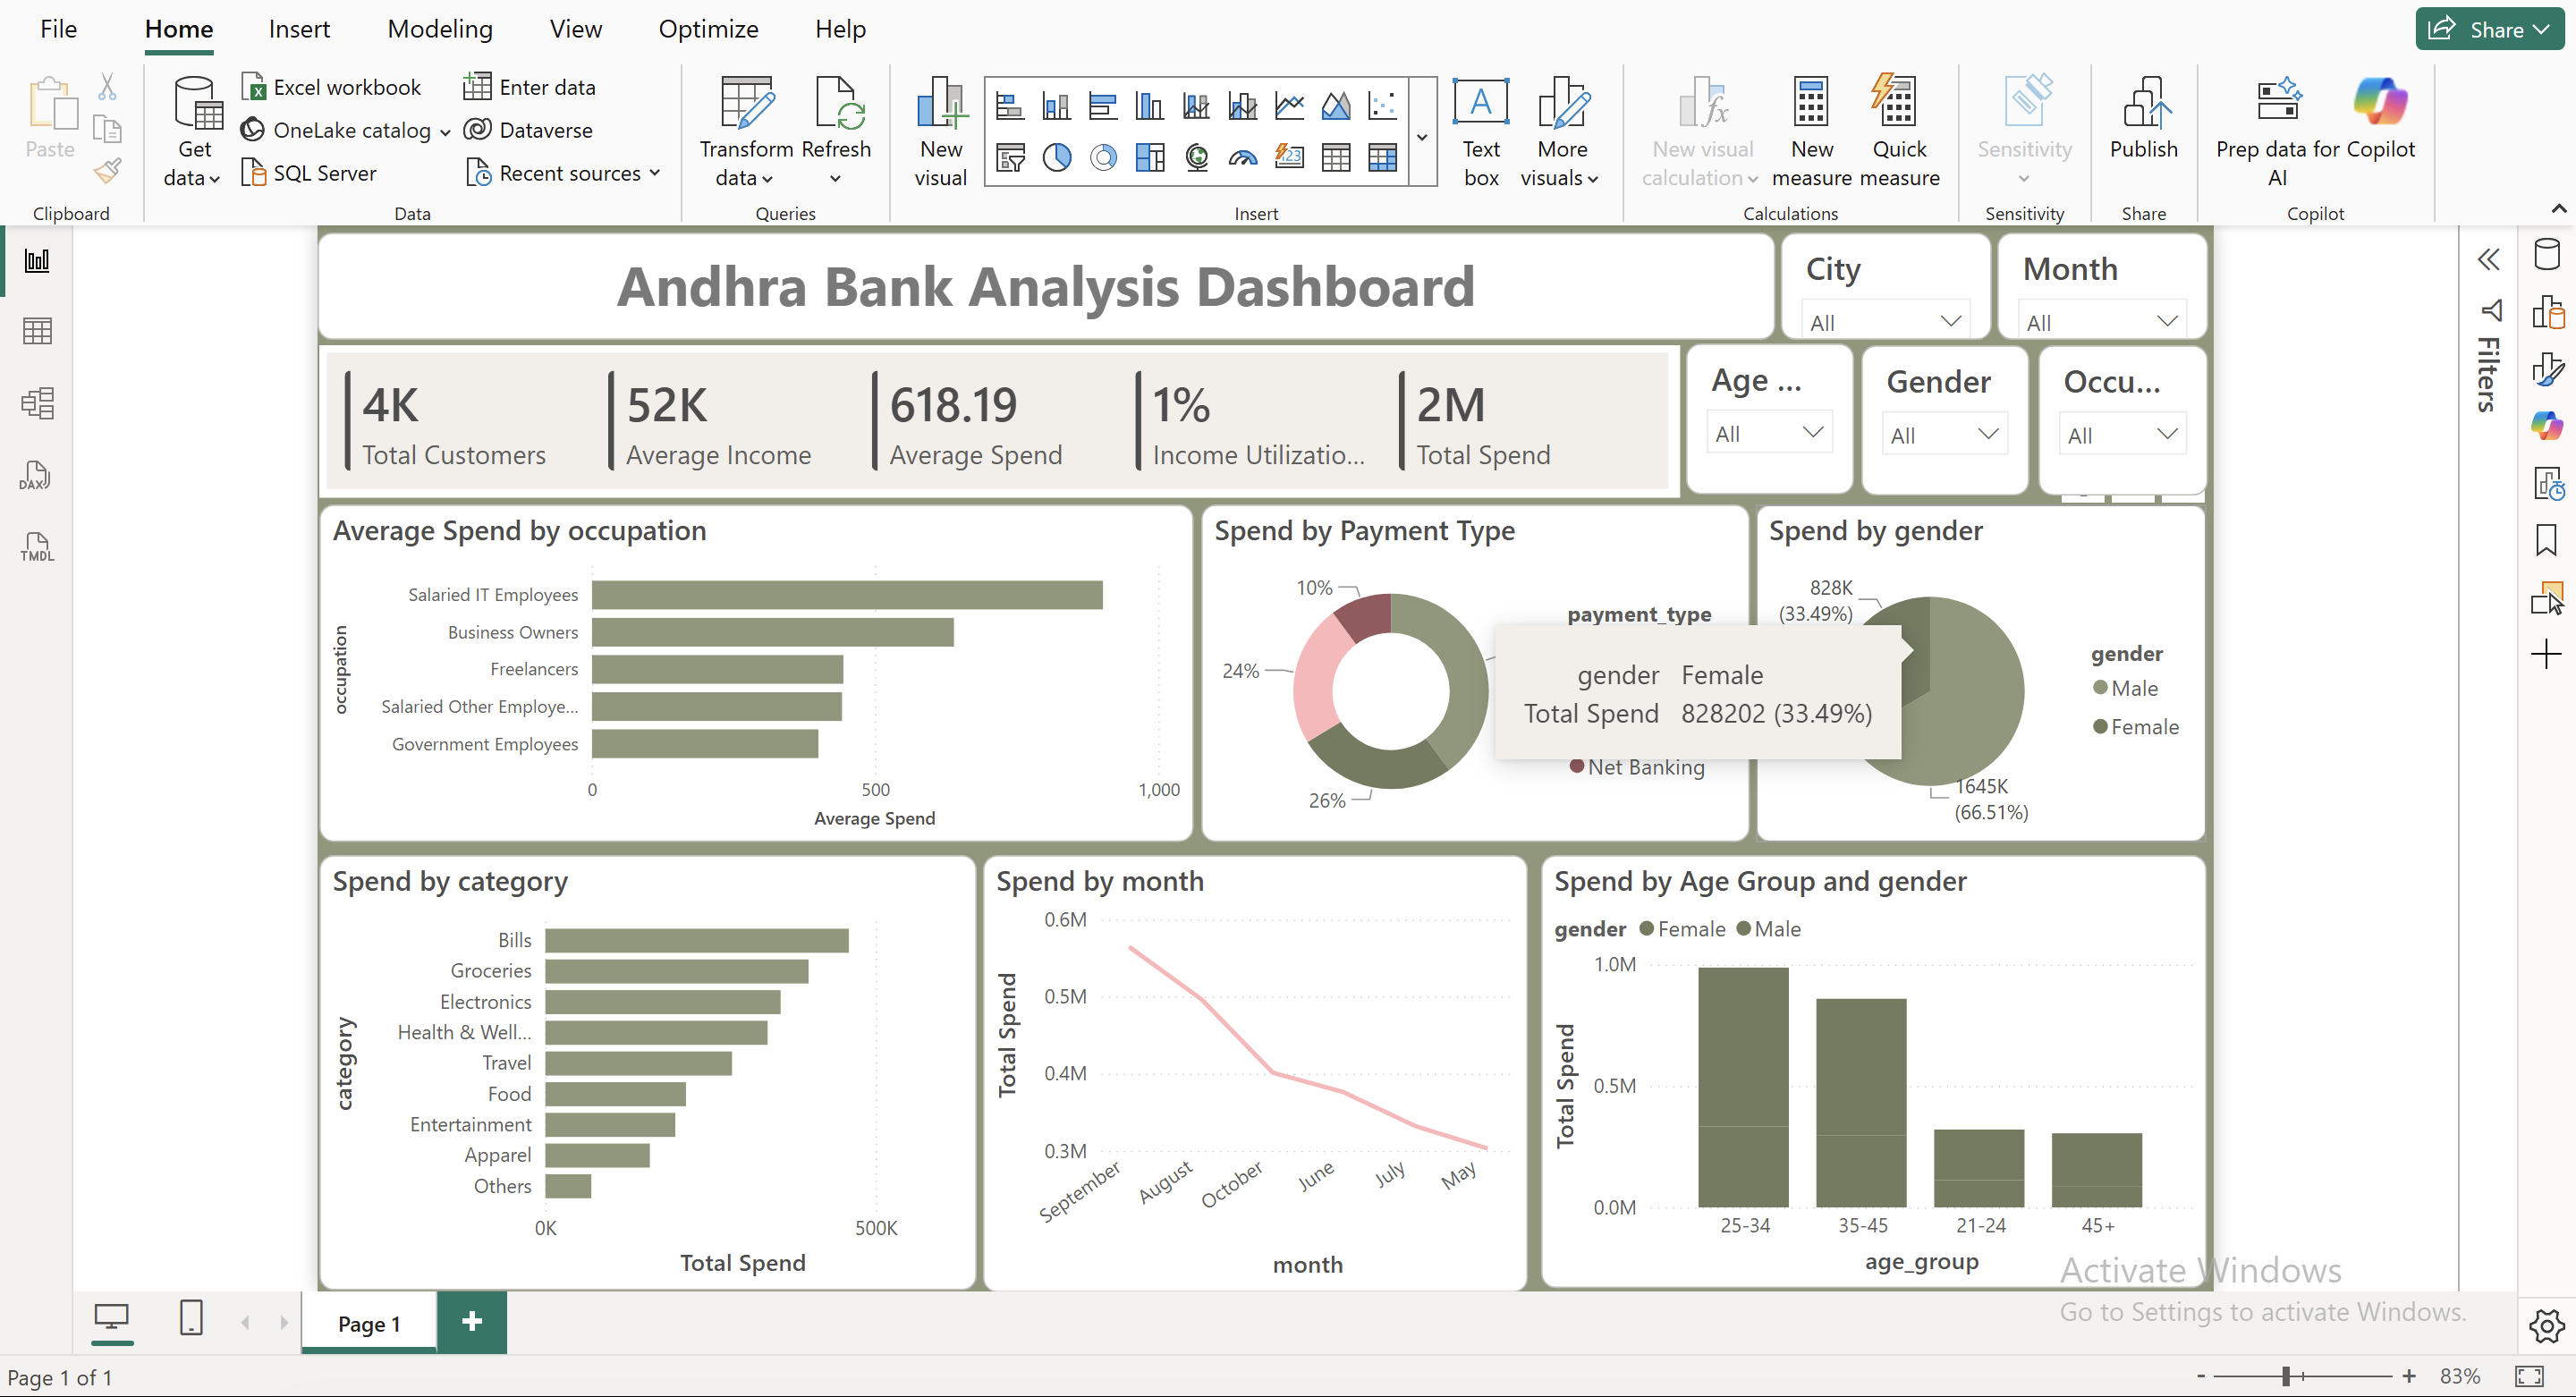

Layout of this report page (visuals, bound fields, positions):
{"tool":"powerbi","page":{"name":"Page 1","canvas":[1280,720],"ordinal":0},"visuals":[{"type":"cardVisual","fields":{"Data":["dim_customers.Total Customers","dim_customers.Average Income","fact_spends.Average Spend","dim_customers.Income Utilization %","fact_spends.Total Spend"]},"box":[1.3,80.4,918.8,102.8],"z":0},{"type":"donutChart","title":"Spend by Payment Type","fields":{"Category":["fact_spends.payment_type"],"Y":["fact_spends.Total Spend"]},"box":[597.2,188.5,370.4,228.1],"z":1000},{"type":"clusteredBarChart","fields":{"Category":["dim_customers.occupation"],"Y":["fact_spends.Average Spend"]},"box":[1.3,188.5,590.6,228.1],"z":2000},{"type":"pieChart","title":"Spend by gender","fields":{"Category":["dim_customers.gender"],"Y":["fact_spends.Total Spend"]},"box":[971.5,188.5,304.5,228.1],"z":4000},{"type":"columnChart","title":"Spend by Age Group and gender","fields":{"Category":["dim_customers.age_group"],"Series":["dim_customers.gender"],"Y":["fact_spends.Total Spend"]},"box":[826.5,425.8,449.5,292.6],"z":5000},{"type":"barChart","title":"Spend by category","fields":{"Category":["fact_spends.category"],"Y":["fact_spends.Total Spend"]},"box":[1.3,425.8,444.2,294],"z":6000},{"type":"lineChart","title":"Spend by month","fields":{"Category":["fact_spends.month"],"Y":["fact_spends.Total Spend"]},"box":[449.5,425.8,367.8,295.3],"z":7000},{"type":"slicer","fields":{"Values":["dim_customers.city"]},"box":[988.2,4.8,142.6,72.5],"z":8000},{"type":"slicer","fields":{"Values":["dim_customers.gender"]},"box":[1042.7,80.4,113.4,101.5],"z":9000},{"type":"slicer","fields":{"Values":["dim_customers.age_group"]},"box":[924.1,80,113.4,102],"z":10000},{"type":"slicer","fields":{"Values":["dim_customers.occupation"]},"box":[1162.7,80.4,114.7,101.5],"z":11000},{"type":"slicer","fields":{"Values":["fact_spends.month"]},"box":[1134.4,4.8,142.6,72.5],"z":12000},{"type":"textbox","box":[0,4.8,984.6,72.5],"z":13000}]}

Visuals, with their boxes on the page's 1280x720 design canvas (x1, y1, x2, y2). These are canvas units, not pixel positions in the 2576x1397 screenshot, which may show the page scaled, cropped or inside an application window:
cardVisual - dim_customers.Total Customers x dim_customers.Average Income: <region>1, 80, 920, 183</region>
"Spend by Payment Type" donutChart: <region>597, 188, 968, 417</region>
clusteredBarChart - dim_customers.occupation x fact_spends.Average Spend: <region>1, 188, 592, 417</region>
"Spend by gender" pieChart: <region>972, 188, 1276, 417</region>
"Spend by Age Group and gender" columnChart: <region>826, 426, 1276, 718</region>
"Spend by category" barChart: <region>1, 426, 446, 720</region>
"Spend by month" lineChart: <region>450, 426, 817, 721</region>
slicer - dim_customers.city: <region>988, 5, 1131, 77</region>
slicer - dim_customers.gender: <region>1043, 80, 1156, 182</region>
slicer - dim_customers.age_group: <region>924, 80, 1038, 182</region>
slicer - dim_customers.occupation: <region>1163, 80, 1277, 182</region>
slicer - fact_spends.month: <region>1134, 5, 1277, 77</region>
textbox: <region>0, 5, 985, 77</region>
